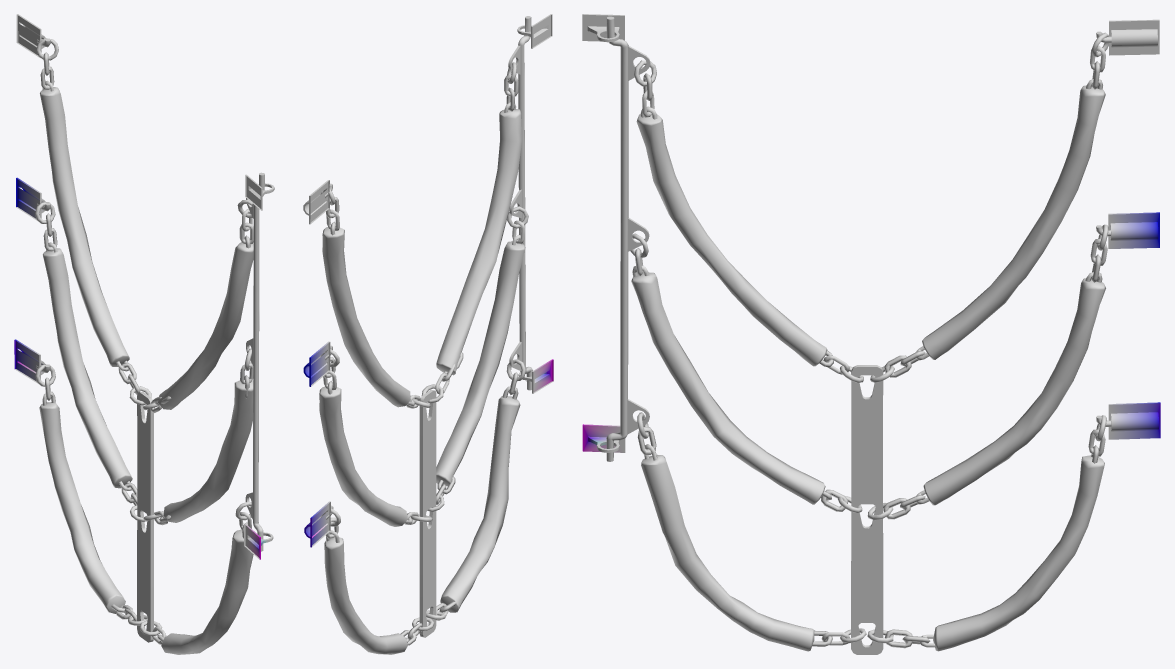
Rendered from SM_ext_doorchains_01.fbx.
3 views of the same model, side by side, from view 1: azimuth 30°, elevation 25°; view 2: azimuth 150°, elevation 25°; view 3: azimuth 270°, elevation 25° (orthographic). The views are drawn at different scales.
Parts seen in each view (by area): view 1: SM_ext_doorchains_01; view 2: SM_ext_doorchains_01; view 3: SM_ext_doorchains_01.
Boxes of the visible parts, x1=… form: SM_ext_doorchains_01: x1=14, y1=14, x2=274, y2=654; SM_ext_doorchains_01: x1=303, y1=14, x2=553, y2=654; SM_ext_doorchains_01: x1=582, y1=14, x2=1160, y2=654.
Bounding box in the file's own units: 8 × 107 × 131.
